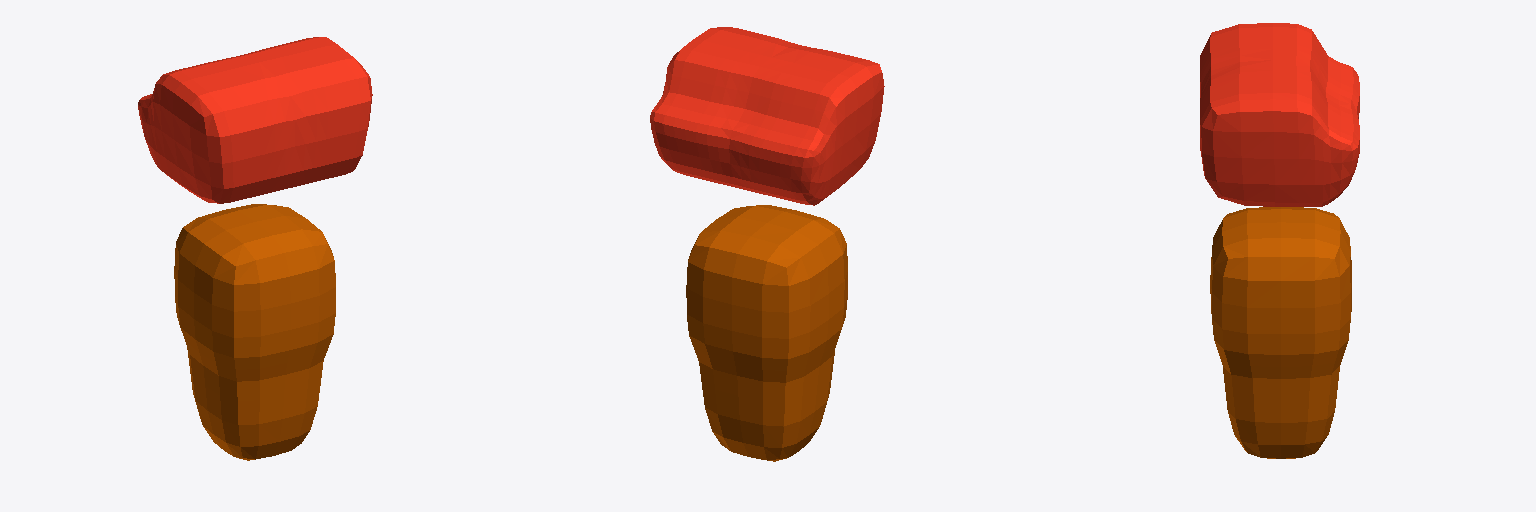
3 views of the same model, side by side, from view 1: azimuth 30°, elevation 25°; view 2: azimuth 150°, elevation 25°; view 3: azimuth 270°, elevation 25° (orthographic).
Visible parts, largest first — view 1: Cube, 立方体; view 2: Cube, 立方体; view 3: Cube, 立方体.
Part boxes in pixels (left/top/right/bottom): Cube: left=174, top=204, right=335, bottom=460; 立方体: left=138, top=37, right=372, bottom=203; Cube: left=686, top=205, right=847, bottom=461; 立方体: left=650, top=27, right=884, bottom=205; Cube: left=1210, top=207, right=1351, bottom=458; 立方体: left=1200, top=23, right=1359, bottom=206.
Size of the model in its own units: 2.82 by 6.09 by 2.26.
Materials: 2 (2 with a texture image).